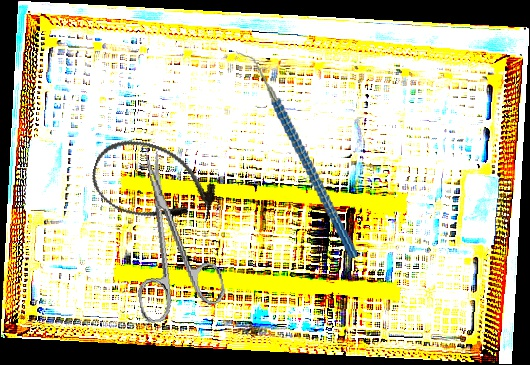Cannula: (83, 128, 225, 239)
Chopper: (235, 38, 358, 270)
Iris Scissors: (111, 143, 229, 325)
